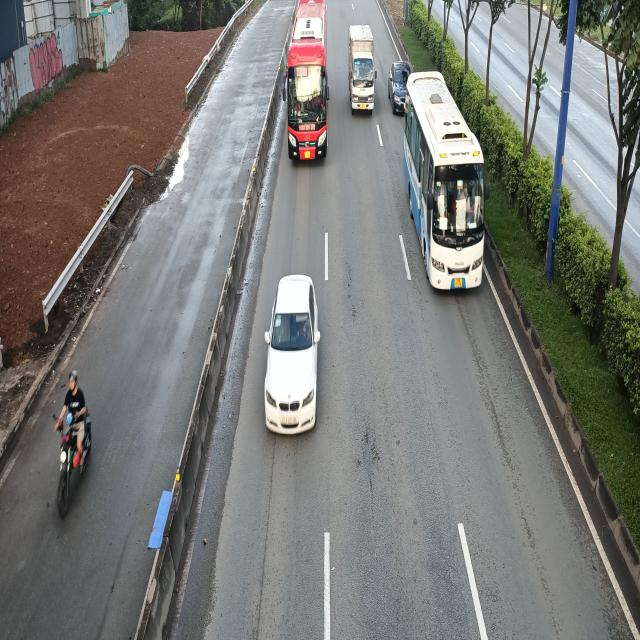car: (263, 276, 322, 436), (388, 60, 411, 113)
coach: (404, 68, 489, 294), (283, 1, 329, 163)
truck: (348, 25, 377, 116)
